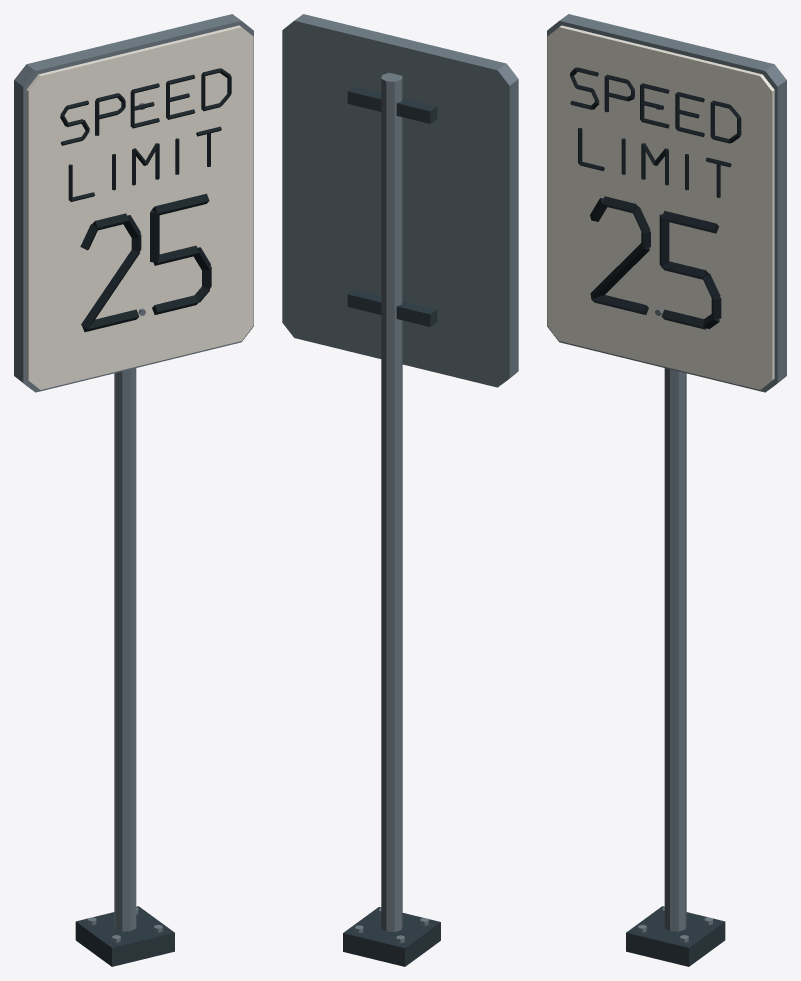
File: b02_speed_limit_25.glb
3 renders of one model, left to right at view 1: azimuth 30°, elevation 25°; view 2: azimuth 150°, elevation 25°; view 3: azimuth 330°, elevation 25°, orthographic.
Visible parts, largest first — view 1: b02_speed_limit_25; view 2: b02_speed_limit_25; view 3: b02_speed_limit_25.
Part boxes in pixels (x1,y1,x2,y2): b02_speed_limit_25: (14,14,253,966); b02_speed_limit_25: (282,14,518,966); b02_speed_limit_25: (547,14,786,966).
Size of the model in its own units: 0.66 by 2.49 by 0.205.
